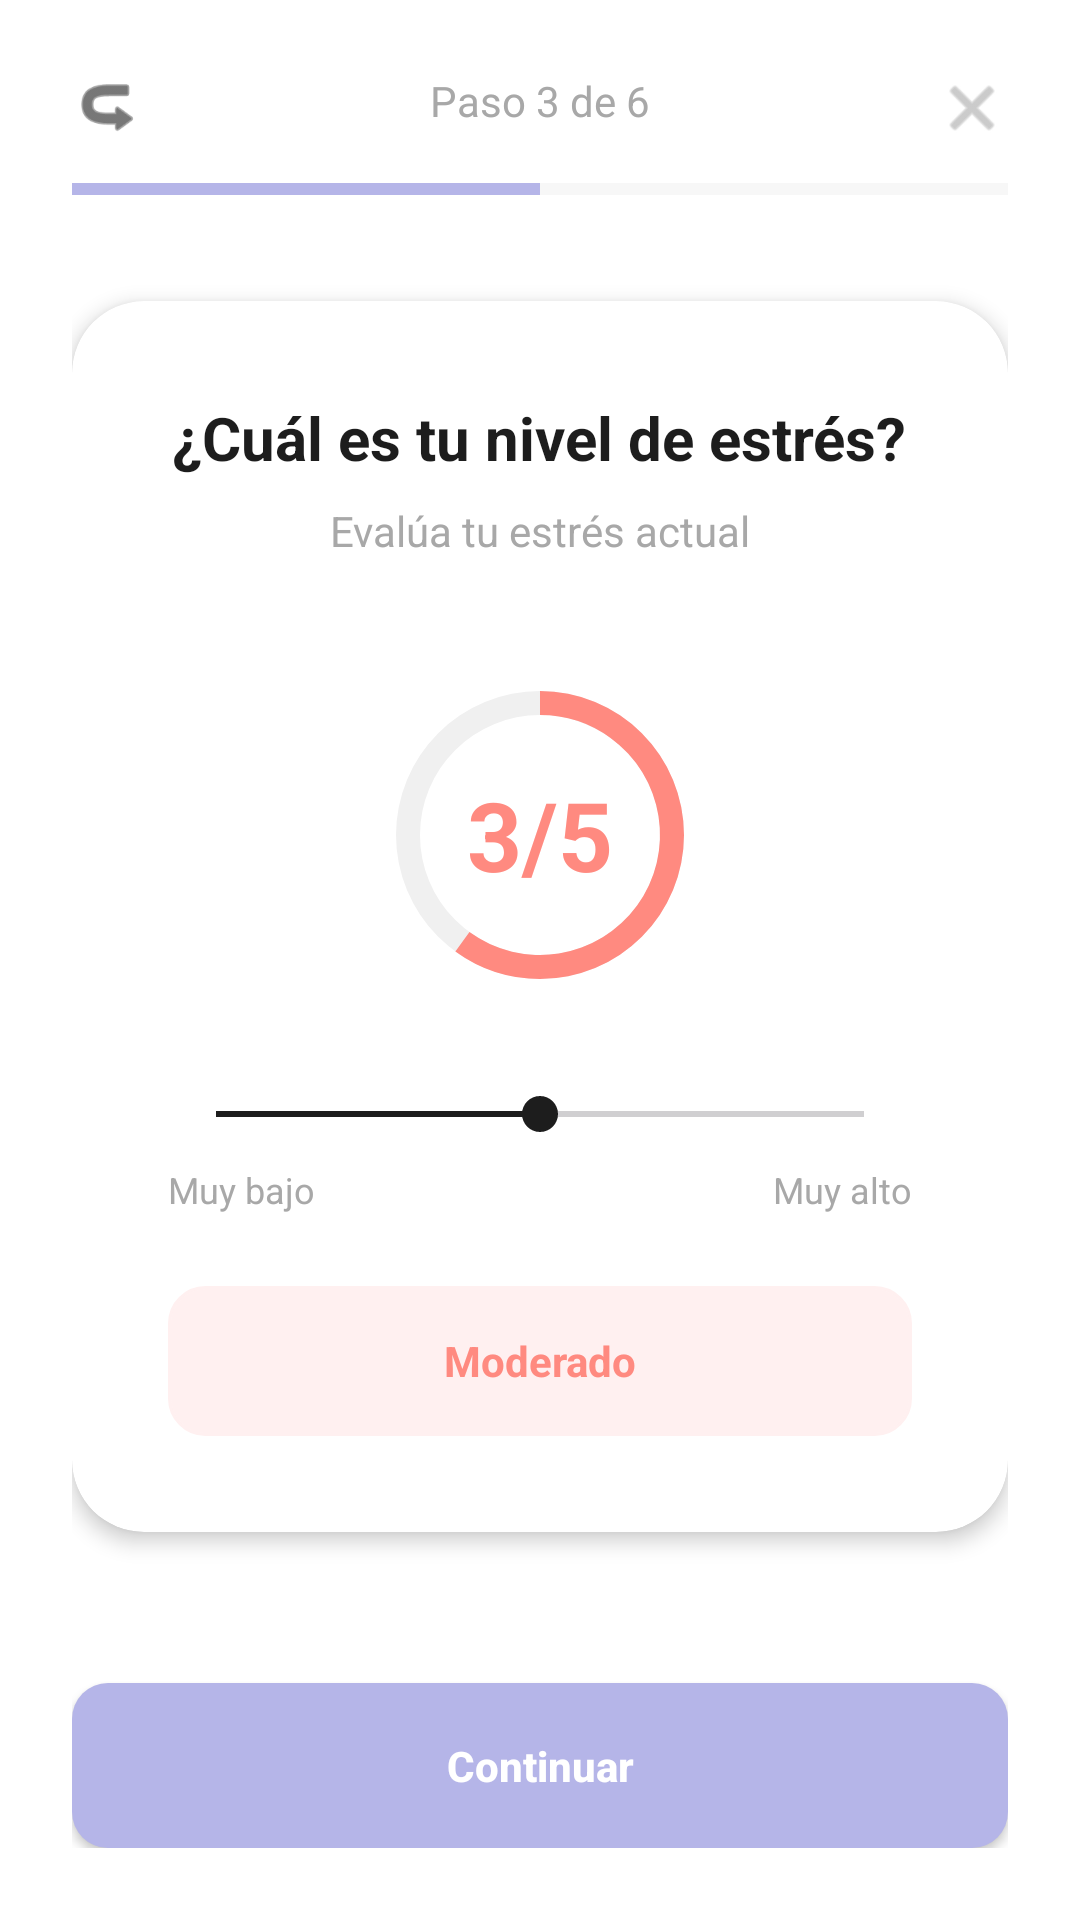

Screen size 1080w x 1920h. Icon name, then its box in pixels as [x1=x1, y1=y1, x2=x2, y2=y2]:
close clear cancel: [x1=950, y1=86, x2=994, y2=130]
